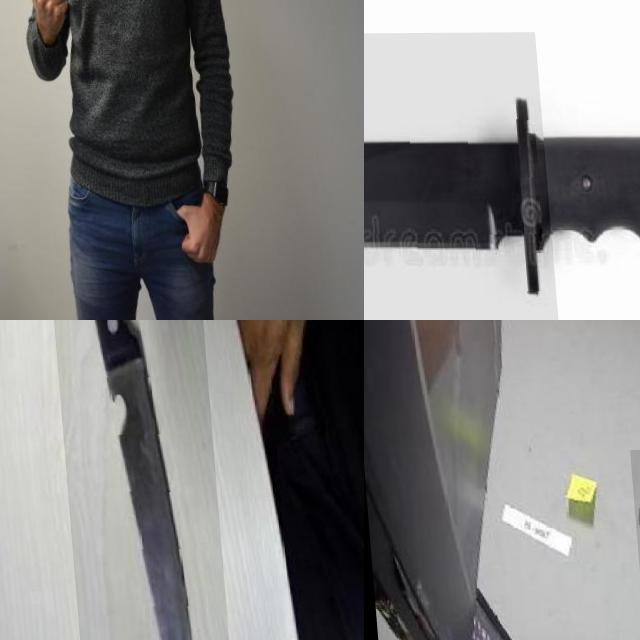-: (35, 320, 224, 640), (364, 33, 566, 320), (8, 0, 53, 46)
